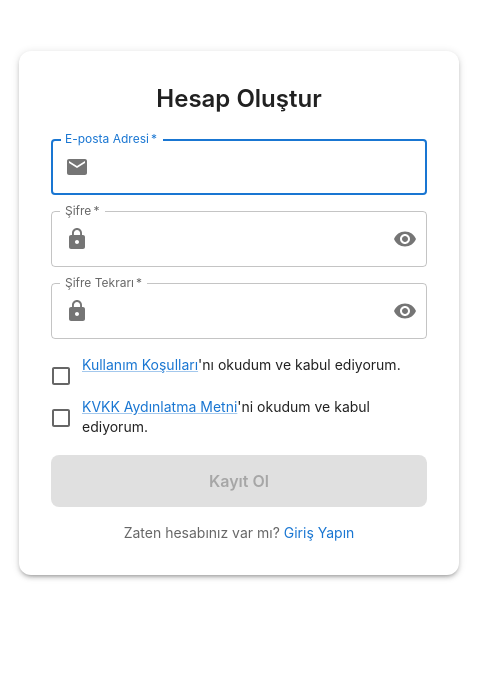
Test: User Registration - Story 1.1 › TC-004: Password too short (7 characters) › Should reject password shorter than 8 characters
Type "short@example.com" into the field named "email". click: coordinates (262, 167)
box: 97,139 -> 427,195
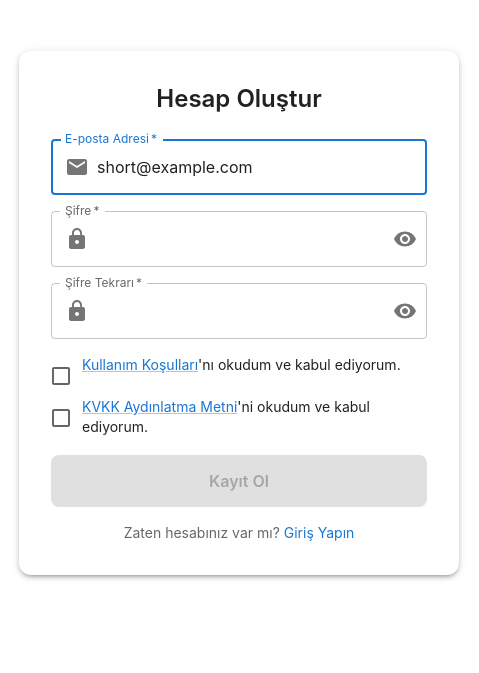
Type "Test1" into the password field named "password". click: coordinates (237, 239)
box: 97,211 -> 377,267
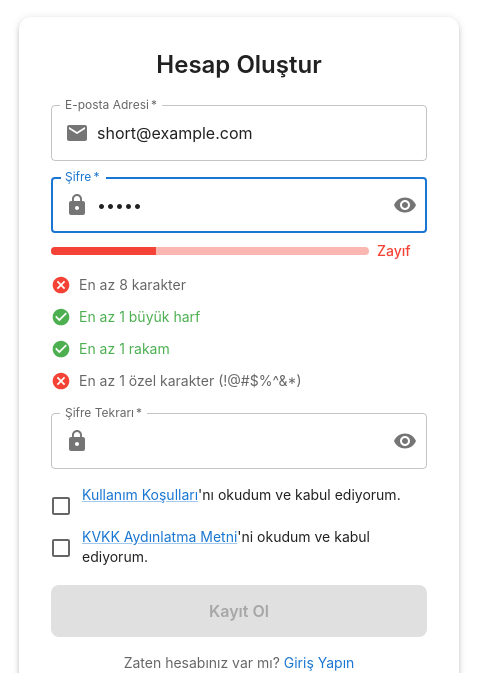
Leave the password field named "password", box 97,177 -> 377,233
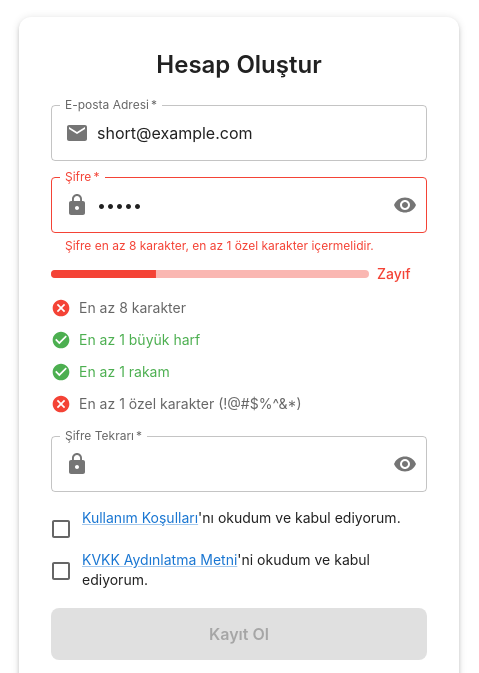
Check: the text "Şifre en az 8 karakter, en az 1 özel karakter içermelidir." is shown, box 65,236 -> 413,256
Check: the text with test id "password-error" shows "en az", box 65,238 -> 374,253
Check: the text with test id "password-error" shows "8", box 65,238 -> 374,253
